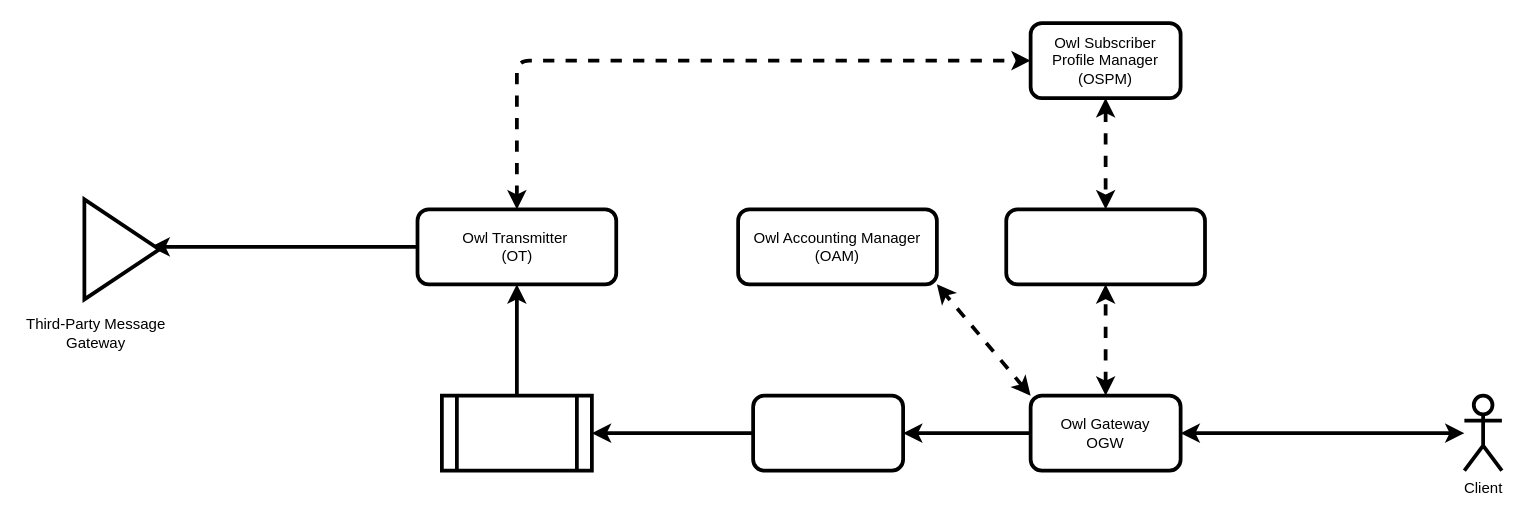
This 1525x519 diagram has some shape labels left out. Each missing label, with the centre of its shape:
Owl Authentication and Authorization Manager (OAAM): (x=1105, y=246)
Owl Message Dispatcher (OMD): (x=827, y=432)
